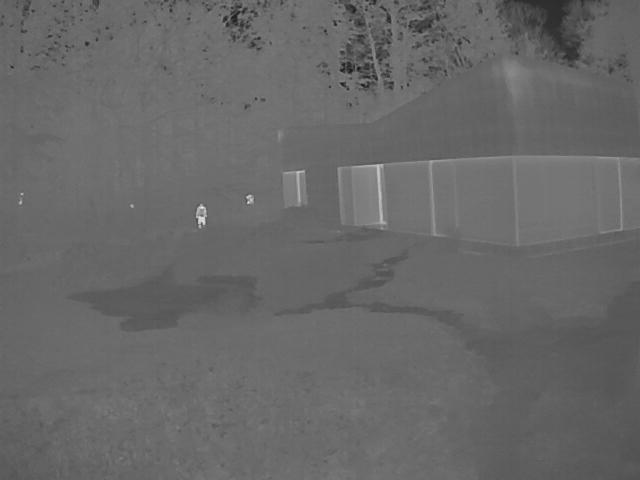person: (196, 203, 209, 229)
